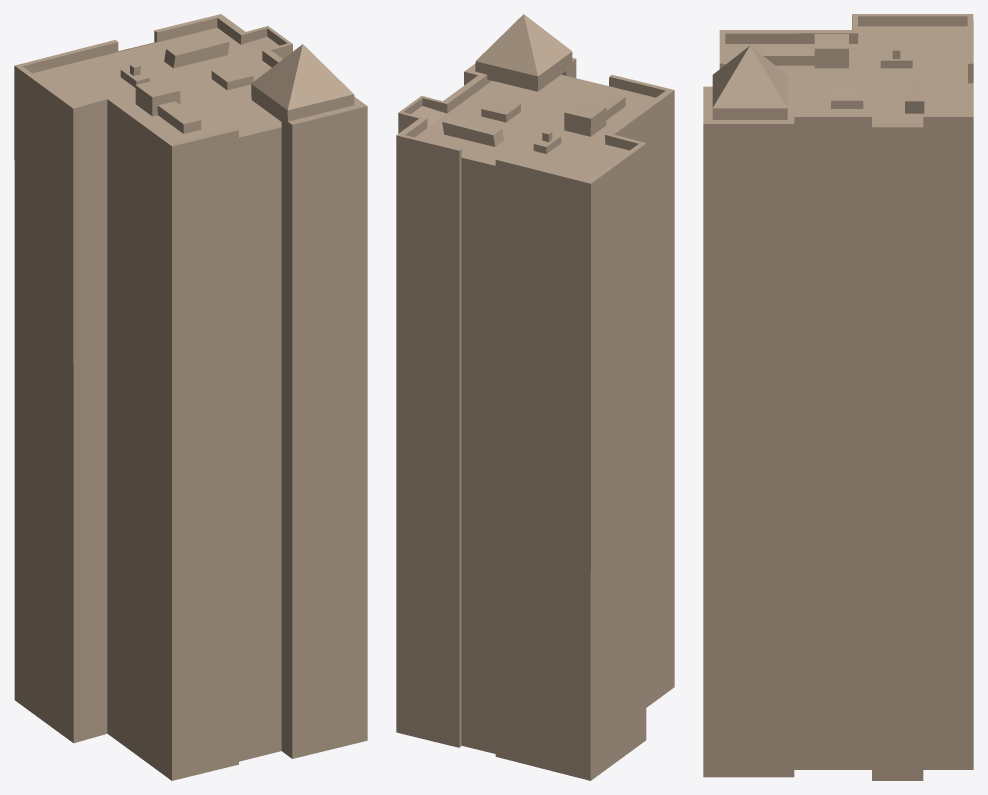
3 renders of one model, left to right at view 1: azimuth 30°, elevation 25°; view 2: azimuth 150°, elevation 25°; view 3: azimuth 270°, elevation 25°, orthographic. The views are drawn at different scales.
Parts seen in each view (by area): view 1: B4_pCube6; view 2: B4_pCube6; view 3: B4_pCube6.
Boxes of the visible parts, x1,y1,x2,y2 form: B4_pCube6: (14, 14, 367, 780); B4_pCube6: (396, 14, 674, 780); B4_pCube6: (703, 14, 973, 780).
Bounding box in the file's own units: 29.58 × 85.19 × 29.31.
